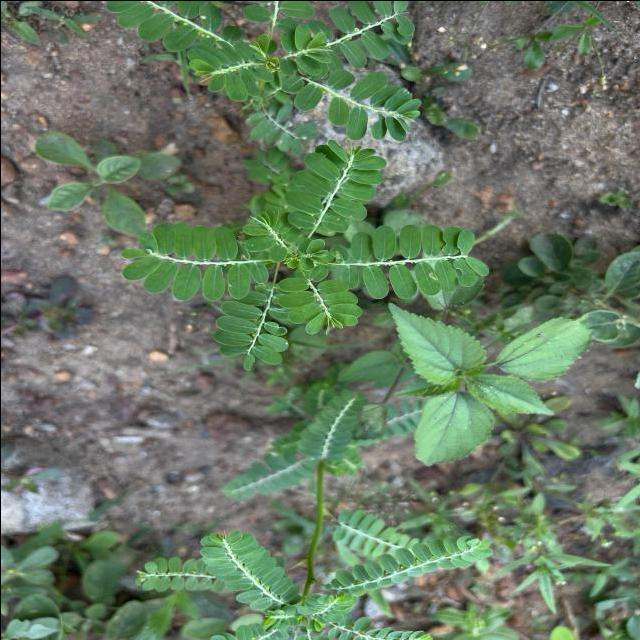Phyllanthus niruri: (118, 218, 273, 301), (344, 223, 492, 301), (281, 138, 388, 233), (328, 534, 494, 594), (196, 528, 299, 612), (209, 287, 291, 372), (273, 266, 364, 338)
